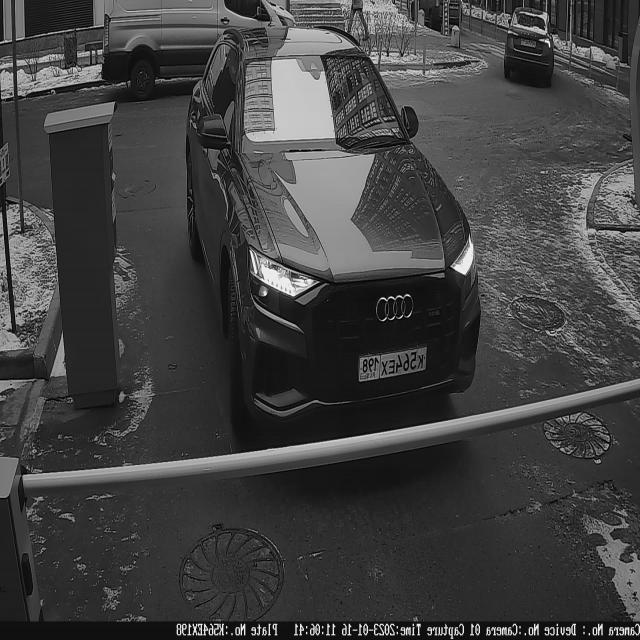car-plate-numbers: (354, 337, 432, 386)
